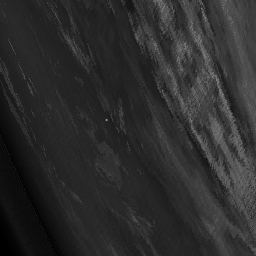Target: (103, 116, 109, 121)
